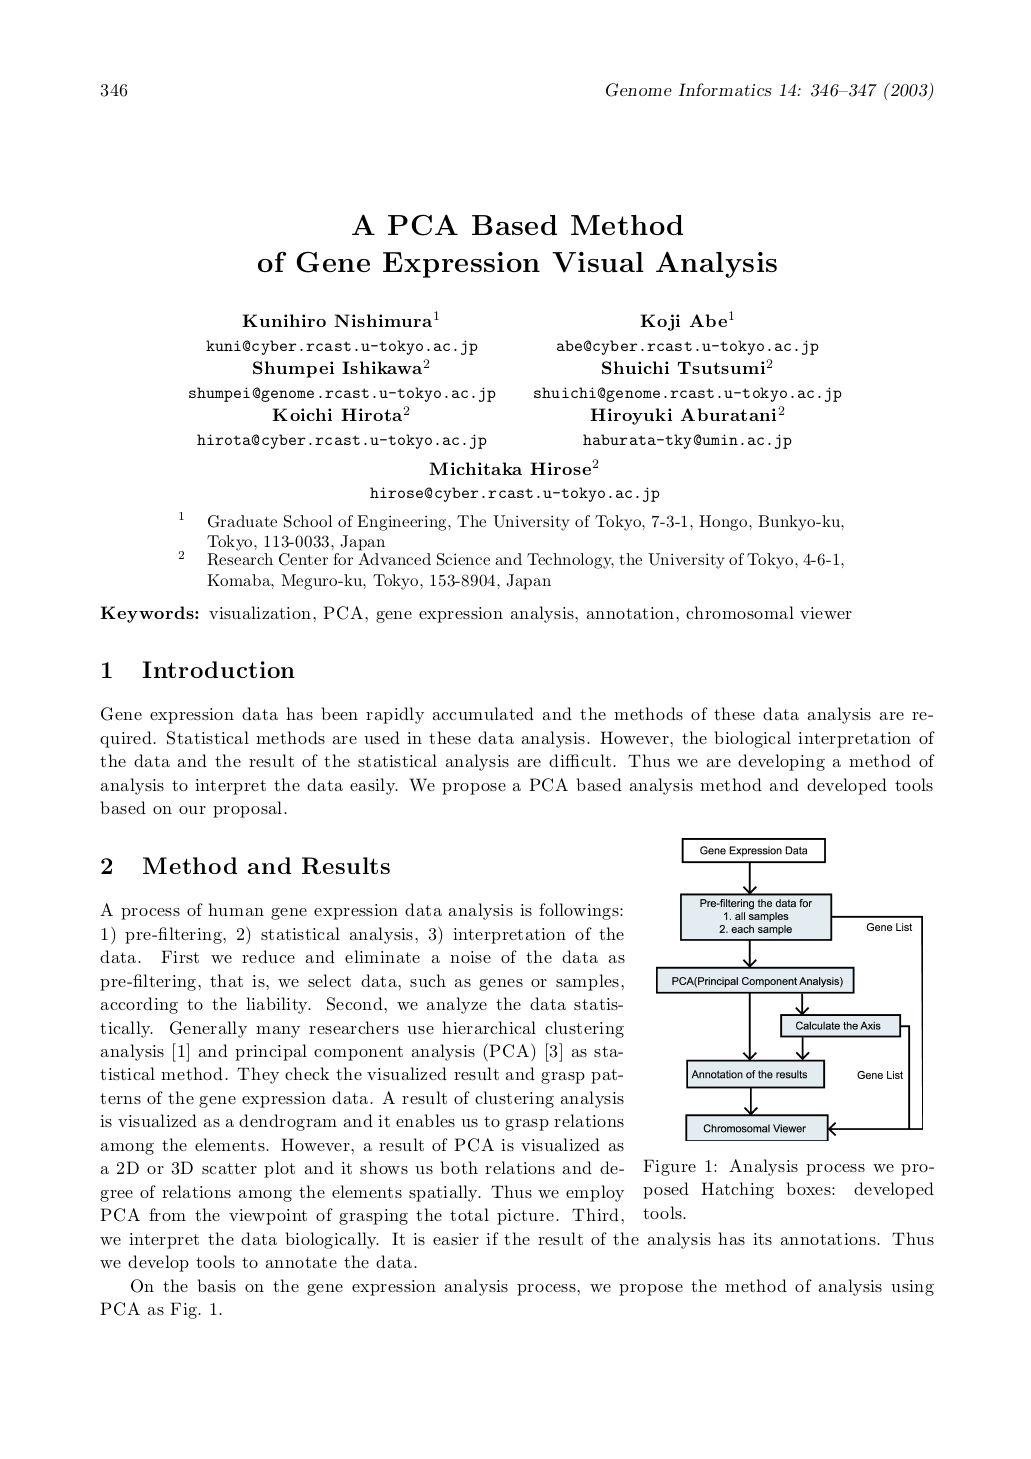figure: (656, 838, 922, 1140)
